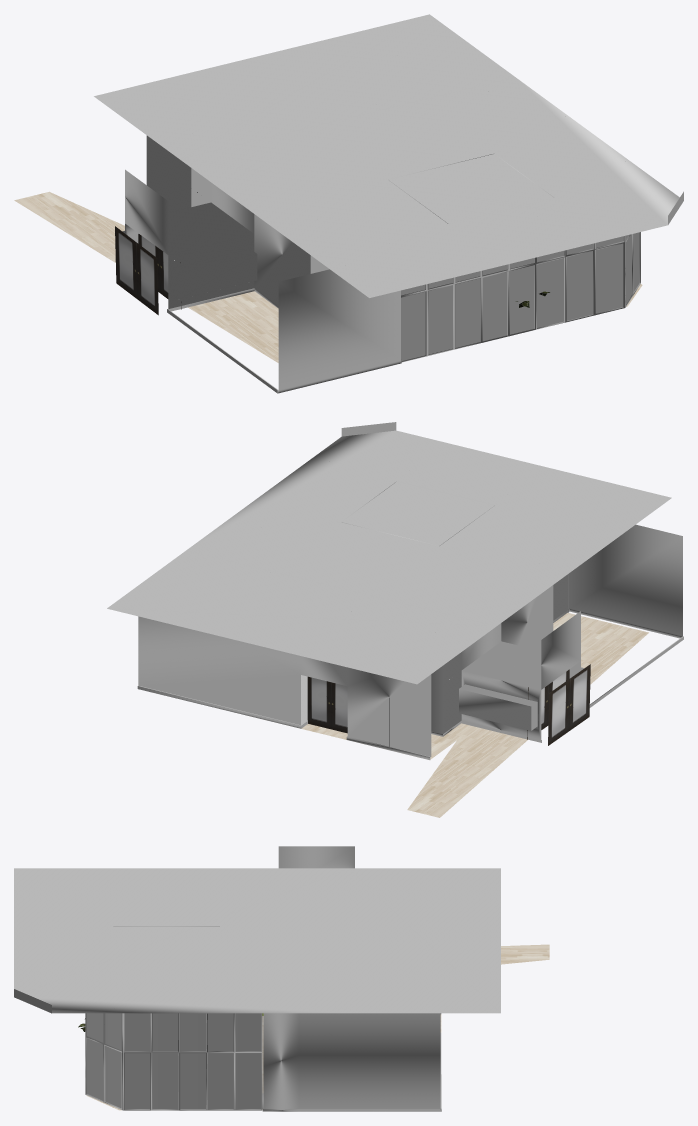
File: lobby.fbx
The picture shows the model from 3 angles, top to bottom: view 1: azimuth 30°, elevation 25°; view 2: azimuth 150°, elevation 25°; view 3: azimuth 270°, elevation 25°; orthographic projection. The views are drawn at different scales.
Visible parts, largest first — view 1: Lobby01:Roof, Lobby01:Wallls, Lobby01:Glass, Lobby01:Floor, Lobby01:Door_06, Lobby01:Chrome; view 2: Lobby01:Roof, Lobby01:Wallls, Lobby01:Floor, Lobby01:Door_06, Door_06; view 3: Lobby01:Roof, Lobby01:Wallls, Lobby01:Glass, Lobby01:Chrome, Lobby01:Floor.
Boxes of the visible parts, box(x1,y1,x2,y2) form: Lobby01:Roof: box(94, 14, 683, 297); Lobby01:Wallls: box(122, 135, 401, 393); Lobby01:Glass: box(401, 232, 639, 360); Lobby01:Floor: box(14, 191, 642, 362); Lobby01:Door_06: box(115, 226, 181, 315); Lobby01:Chrome: box(401, 232, 640, 362); Lobby01:Roof: box(107, 422, 671, 684); Lobby01:Wallls: box(137, 524, 683, 759); Lobby01:Floor: box(301, 613, 648, 817); Lobby01:Door_06: box(527, 664, 590, 745); Door_06: box(307, 676, 347, 733); Lobby01:Roof: box(14, 868, 500, 1013); Lobby01:Wallls: box(262, 846, 441, 1111); Lobby01:Glass: box(87, 1013, 262, 1109); Lobby01:Chrome: box(85, 1013, 262, 1110); Lobby01:Floor: box(86, 944, 549, 1110).
Size of the model in its own units: 2295 by 671 by 3789.
